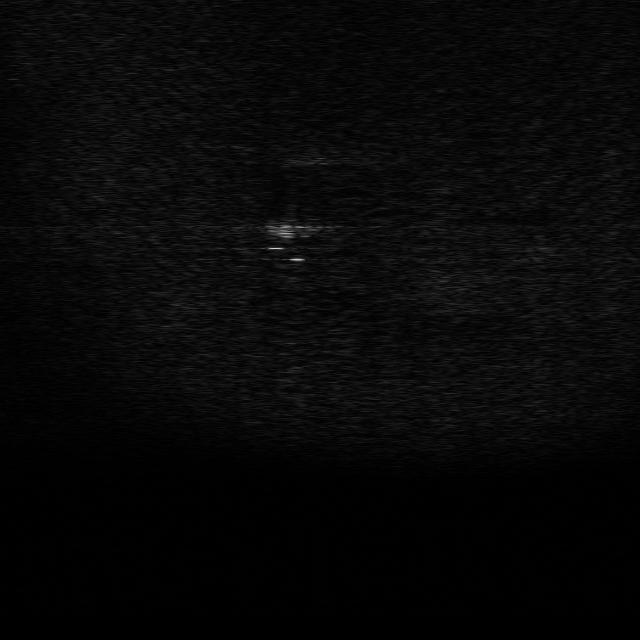plane: (261, 218, 341, 263)
